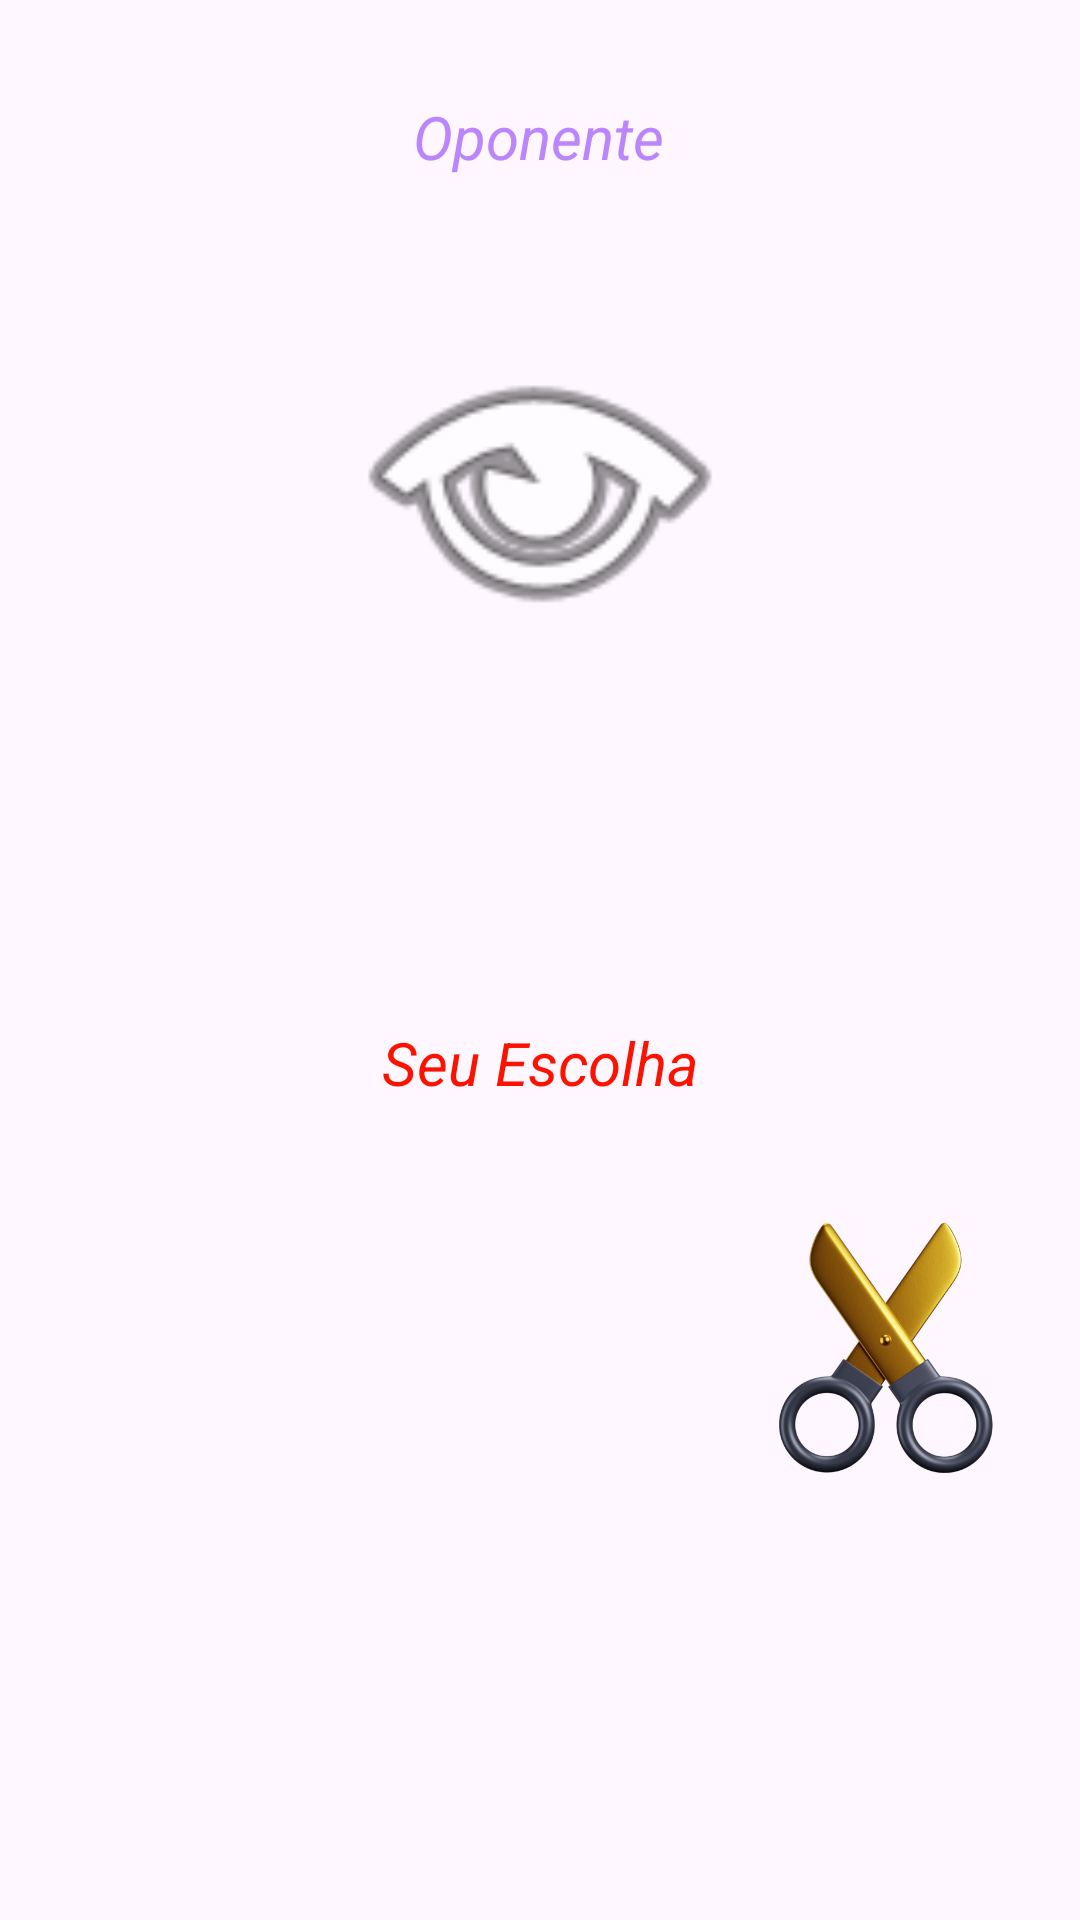

Icon bounding boxes for this 1080 x 1920 phone screenshot, format (x1, y1, x2, y2):
tesoura: (779, 1222, 993, 1473)
view: (368, 386, 711, 602)
